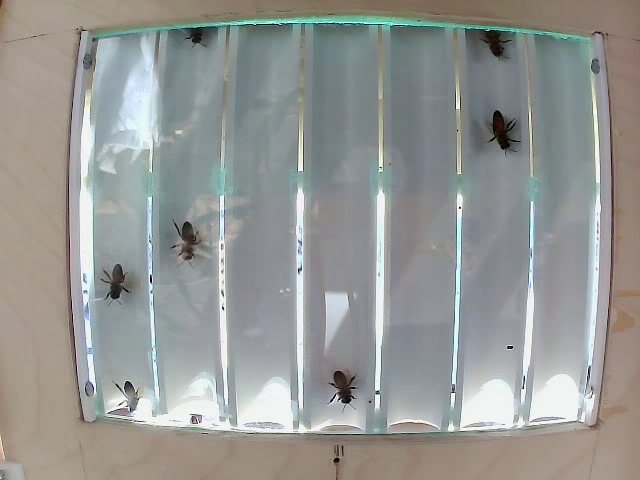bee: (317, 353, 378, 413), (173, 203, 208, 265), (470, 19, 512, 66), (100, 257, 142, 302), (475, 110, 512, 158)
